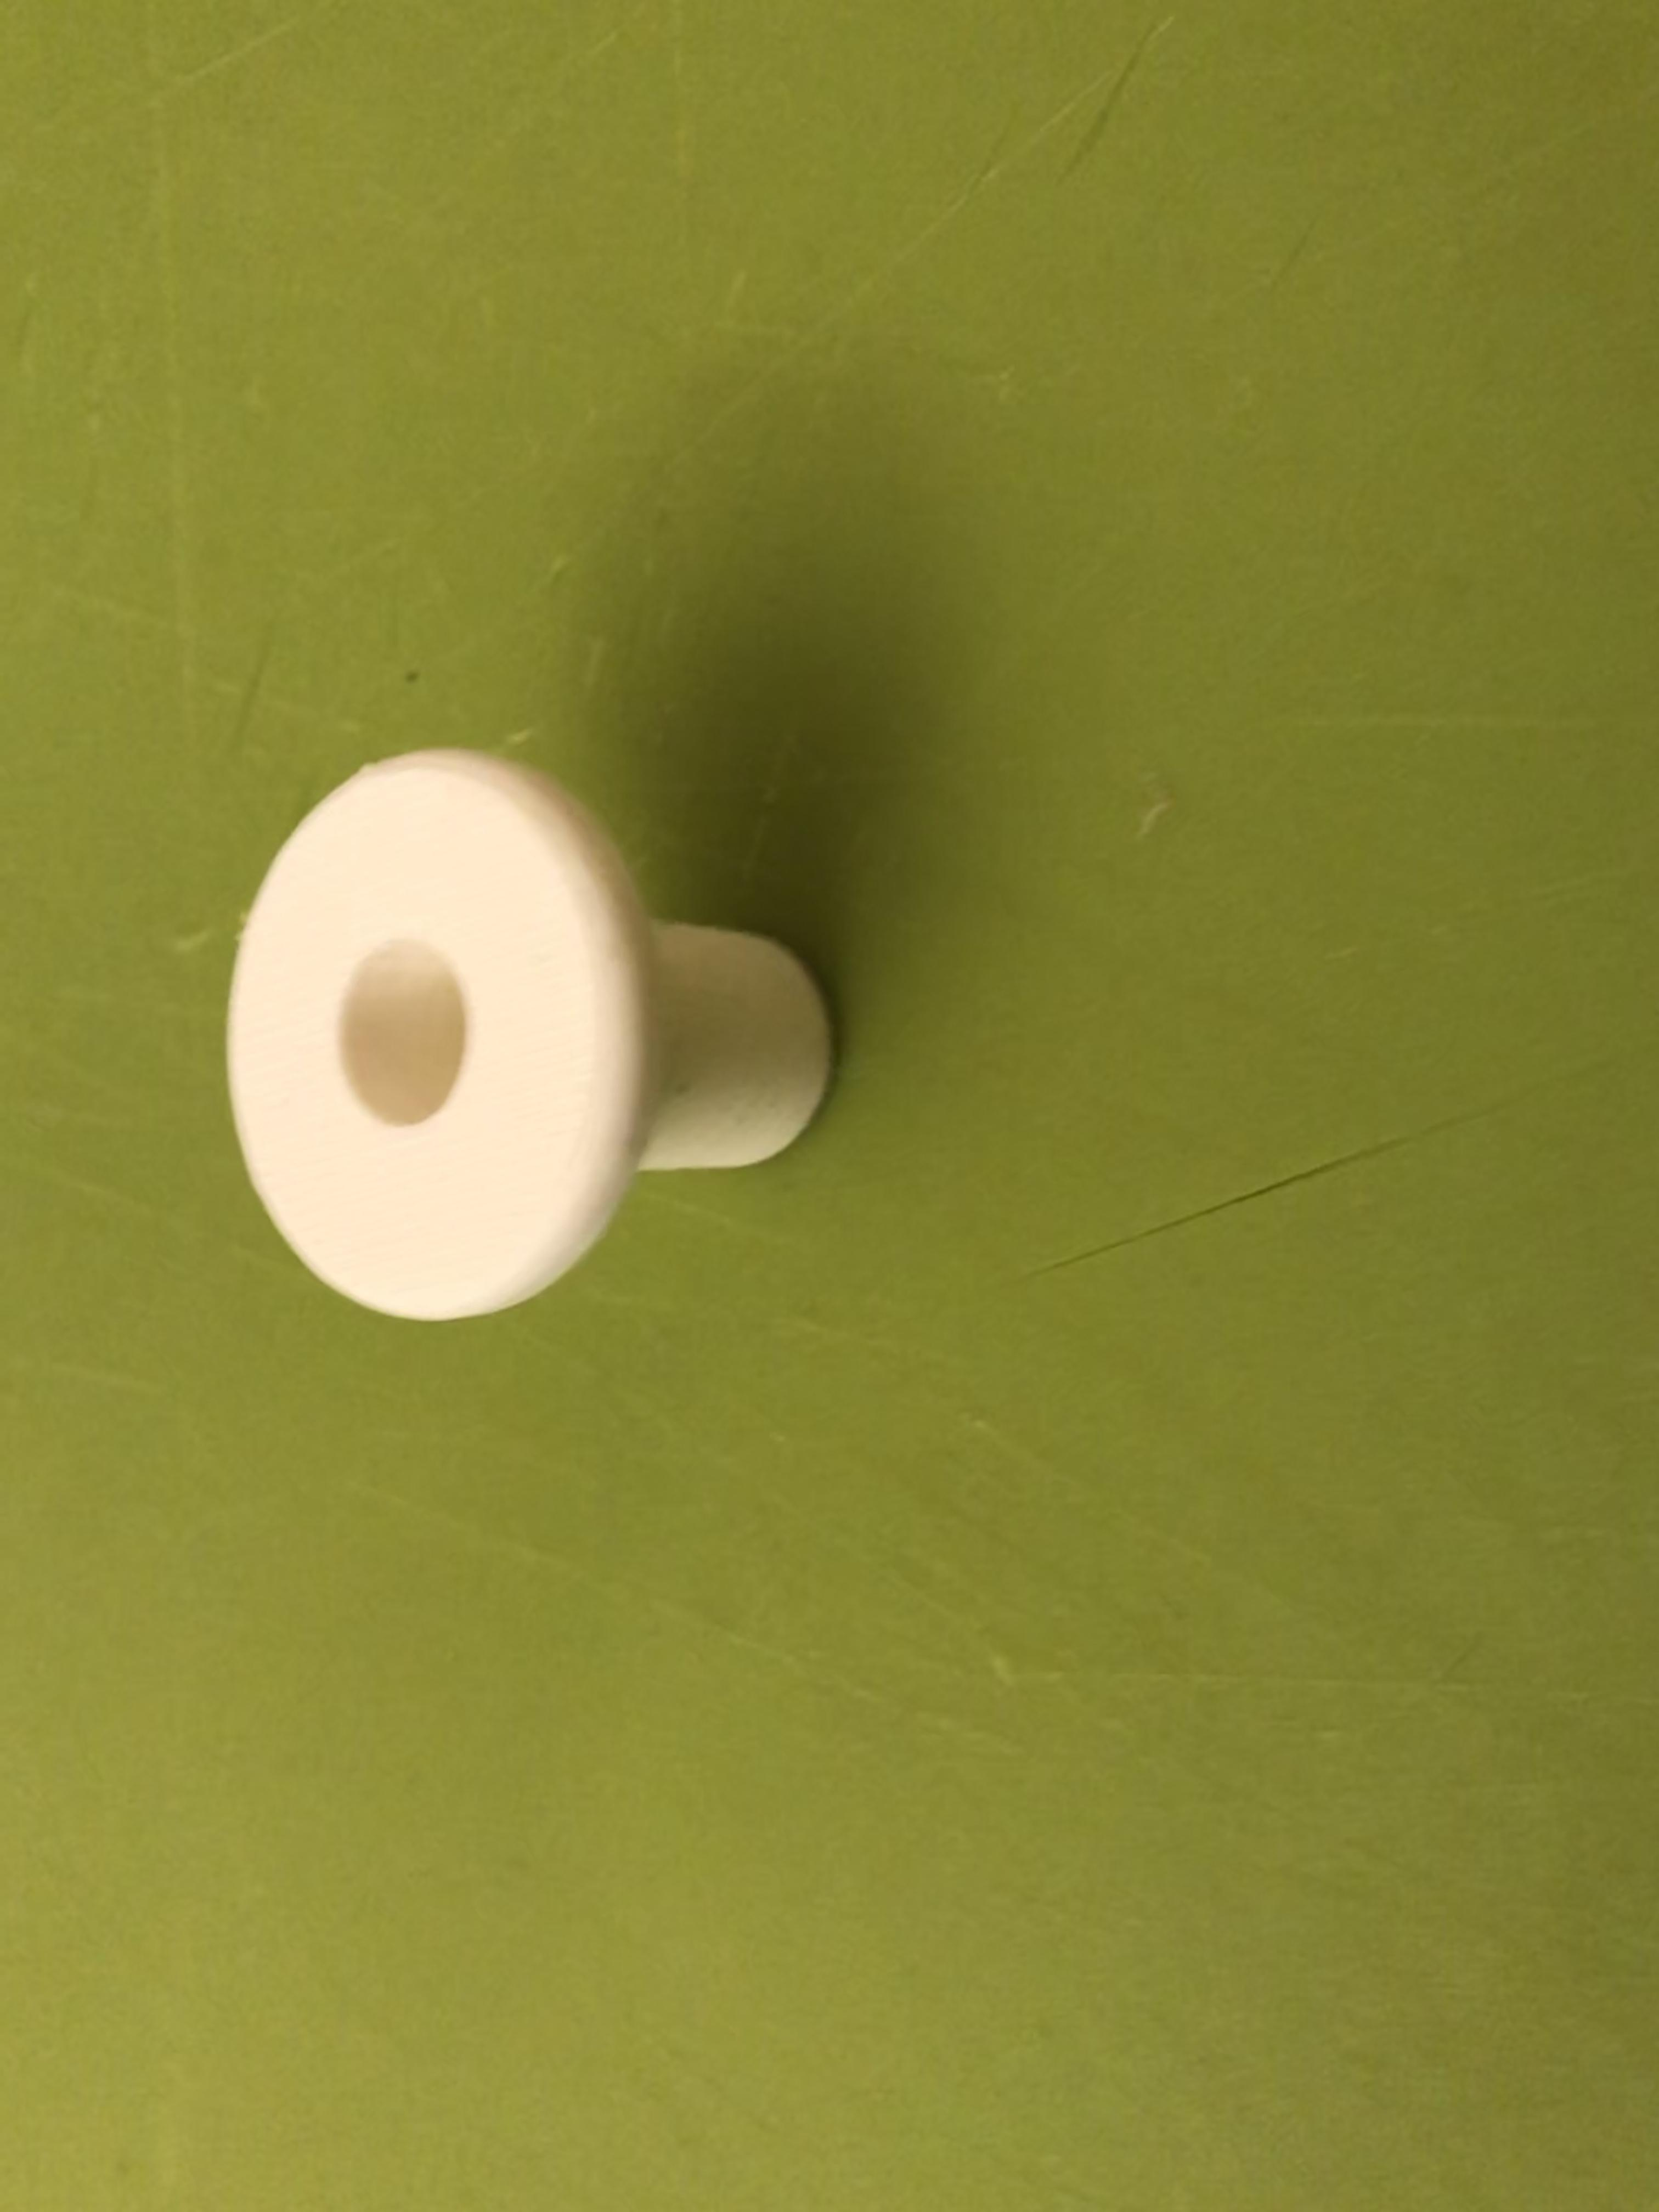White Cone: (211, 733, 849, 1343)
